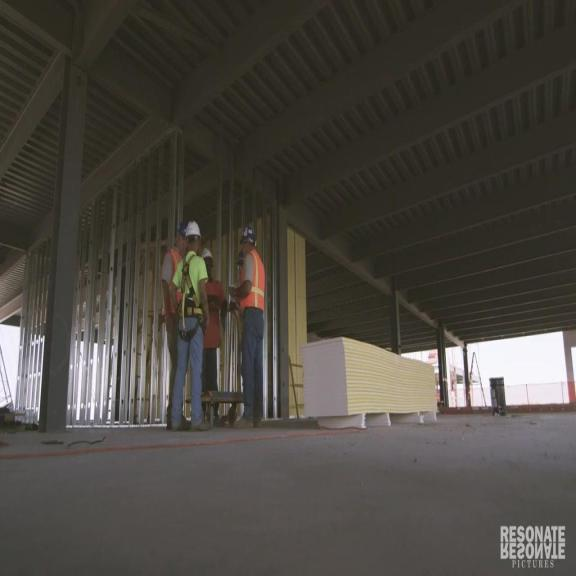safety_vest: (240, 247, 264, 313), (163, 246, 181, 318)
